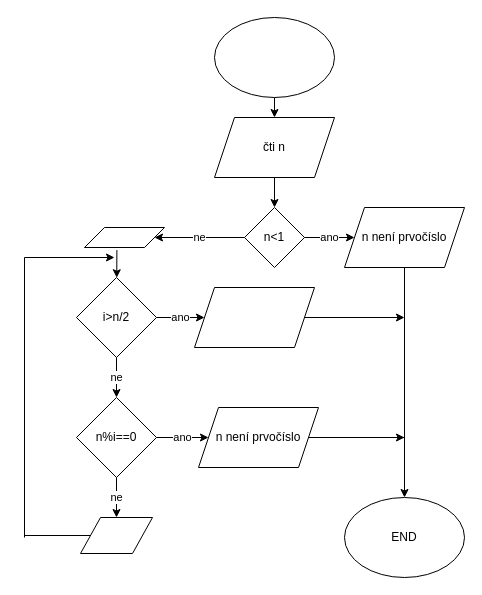
The diagram is 482 pixels wide and 595 high, and some of its shapes have lost their labels. Each missing label, with the centre of its shape:
"i++" belongs at point (116, 535).
"i=2" belongs at point (124, 237).
"n je prvočíslo" belongs at point (254, 317).
"START" belongs at point (274, 57).
